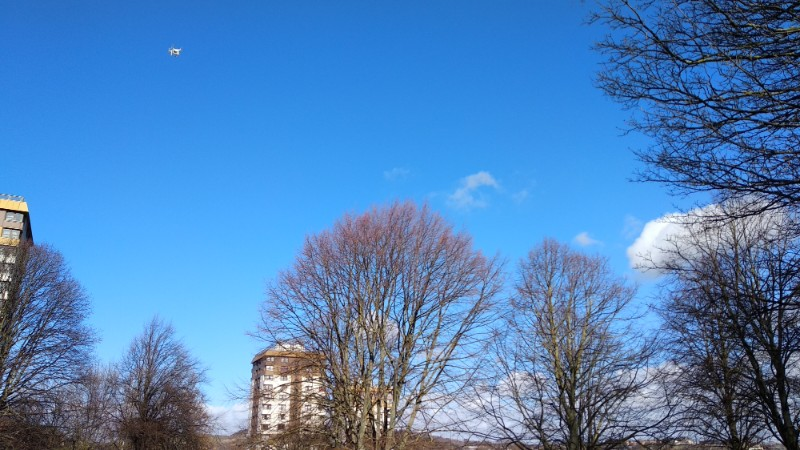drone: (167, 45, 185, 58)
